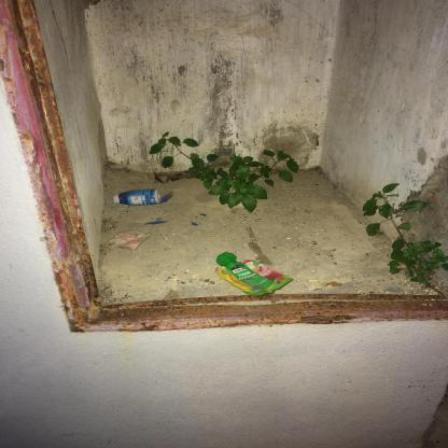Bottle: (115, 190, 163, 206)
Other litter: (217, 254, 295, 297)
Other plastic: (159, 191, 174, 205), (146, 222, 170, 226), (193, 223, 199, 227), (201, 215, 208, 218), (156, 220, 164, 222)
Plastic bag - wrapper: (105, 231, 154, 252)
